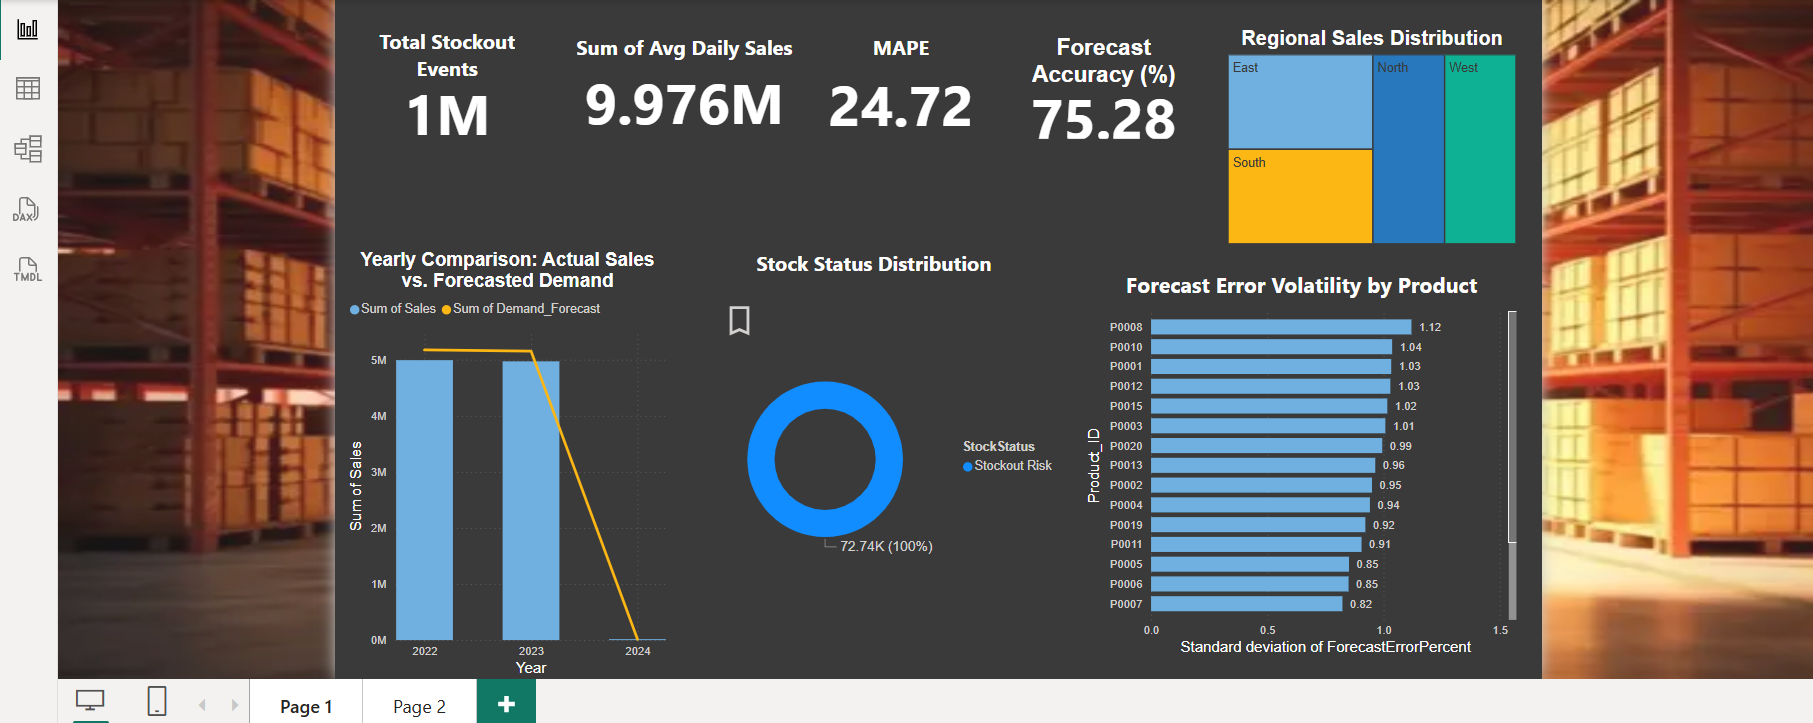

This screenshot's page, from the dashboard's own definition file:
{"tool":"powerbi","page":{"name":"Page 1","canvas":[1280,720],"ordinal":0},"visuals":[{"type":"card","title":"Total Stockout Events","fields":{"Values":["Sum(retail_store_inventory.StockoutCount)"]},"box":[10.1,28.4,218.7,119.5],"z":0},{"type":"card","title":"Sum of Avg Daily Sales","fields":{"Values":["Sum(retail_store_inventory.AvgDailySales)"]},"box":[241,34.4,257.2,111.4],"z":1000},{"type":"card","title":"MAPE","fields":{"Values":["retail_store_inventory.MAPE"]},"box":[508.4,34.4,182.3,115.4],"z":2000},{"type":"card","title":"Forecast Accuracy (%)","fields":{"Values":["retail_store_inventory.ForecastAccuracy"]},"box":[704.8,36.5,220.8,115.4],"z":3000},{"type":"lineClusteredColumnComboChart","title":"Yearly Comparison: Actual Sales vs. Forecasted Demand","fields":{"Category":["retail_store_inventory.Date.Variation.Date Hierarchy.Year","retail_store_inventory.Date.Variation.Date Hierarchy.Quarter","retail_store_inventory.Date.Variation.Date Hierarchy.Month","retail_store_inventory.Date.Variation.Date Hierarchy.Day"],"Y":["Sum(retail_store_inventory.Sales)"],"Y2":["Sum(retail_store_inventory.Demand_Forecast)"]},"box":[10.1,263.3,346.3,457.7],"z":4000},{"type":"donutChart","title":"Stock Status Distribution","fields":{"Category":["retail_store_inventory.StockStatus"],"Y":["CountNonNull(retail_store_inventory.Product_ID)"]},"box":[368.6,263.3,405.1,417.2],"z":5000},{"type":"treemap","title":"Regional Sales Distribution","fields":{"Group":["retail_store_inventory.Region"],"Values":["Sum(retail_store_inventory.Sales)"]},"box":[941.8,28.4,315.9,234.9],"z":6000},{"type":"barChart","title":"Forecast Error Volatility by Product","fields":{"Category":["retail_store_inventory.Product_ID"],"Y":["Sum(retail_store_inventory.ForecastErrorPercent)"]},"box":[791.9,285.6,465.8,413.2],"z":7000},{"type":"actionButton","box":[408,319,100.4,40.5],"z":8000}]}

Visuals, with their boxes on the page's 1280x720 design canvas (x1, y1, x2, y2). These are canvas units, not pixel positions in the 1813x723 screenshot, which may show the page scaled, cropped or inside an application window:
"Total Stockout Events" card: (left=10, top=28, right=229, bottom=148)
"Sum of Avg Daily Sales" card: (left=241, top=34, right=498, bottom=146)
"MAPE" card: (left=508, top=34, right=691, bottom=150)
"Forecast Accuracy (%)" card: (left=705, top=36, right=926, bottom=152)
"Yearly Comparison: Actual Sales vs. Forecasted Demand" lineClusteredColumnComboChart: (left=10, top=263, right=356, bottom=721)
"Stock Status Distribution" donutChart: (left=369, top=263, right=774, bottom=680)
"Regional Sales Distribution" treemap: (left=942, top=28, right=1258, bottom=263)
"Forecast Error Volatility by Product" barChart: (left=792, top=286, right=1258, bottom=699)
actionButton: (left=408, top=319, right=508, bottom=360)
